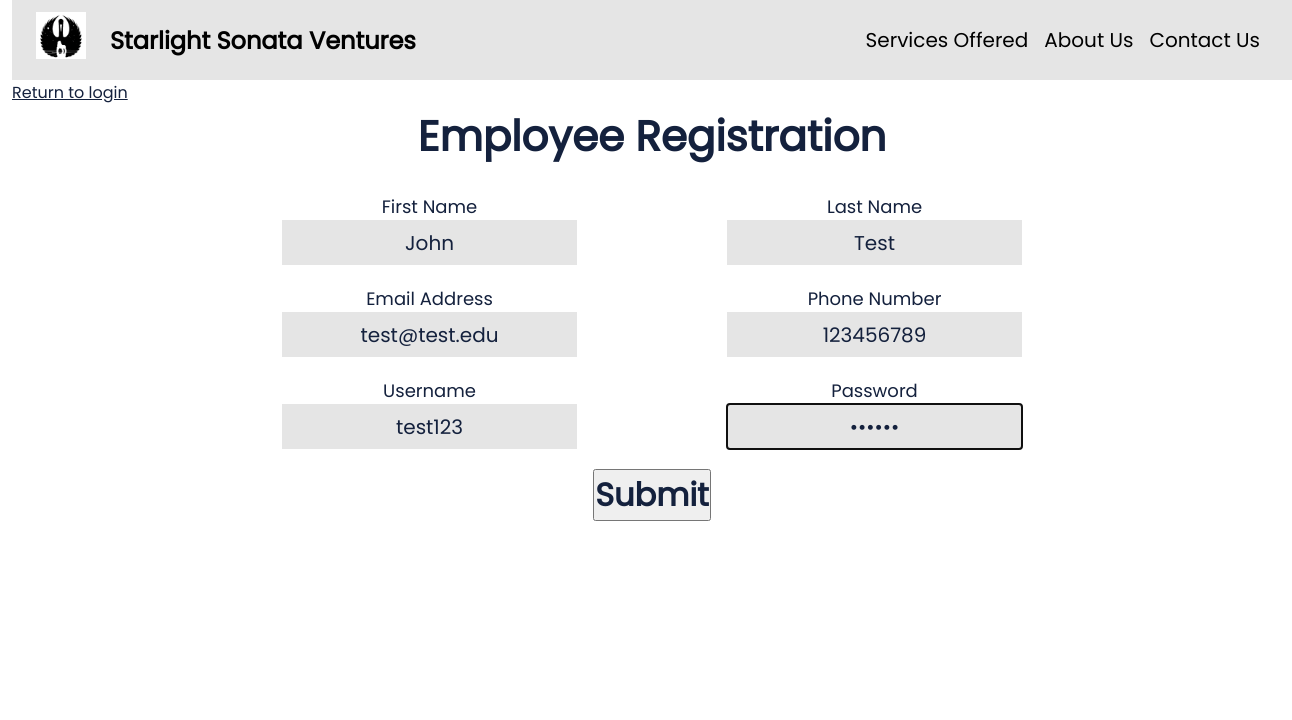
Test: Rendering the employee register page › submits the form
What coordinates should you click on to do the following:
click the button with id "submit"
I would click on:
 (652, 495)
Its box is [593, 469, 710, 521].
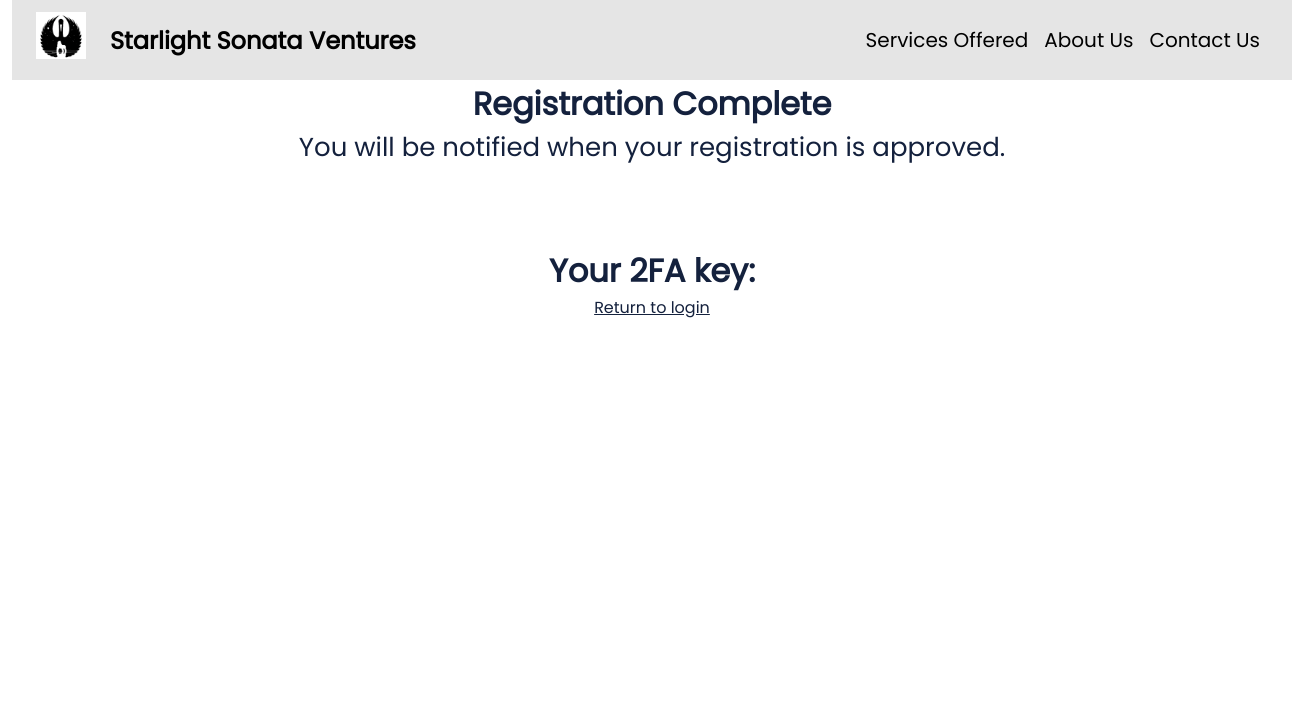
Expected: the heading "Your 2FA key:" is shown, [549, 248, 755, 293]
